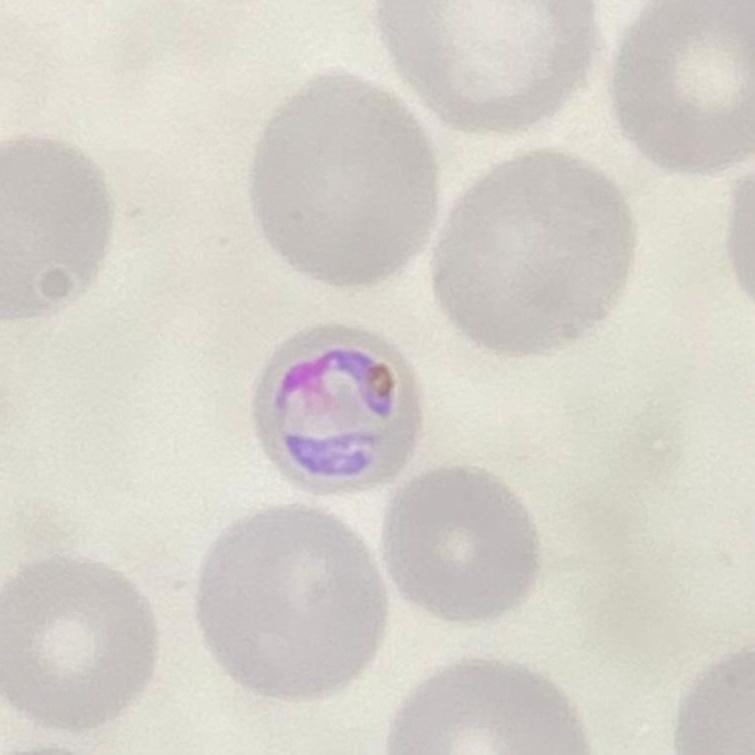Infected: (257, 323, 422, 496)
Uninfected: (444, 150, 637, 357), (251, 71, 434, 287), (204, 502, 381, 695), (380, 0, 595, 131), (0, 557, 163, 727), (381, 465, 540, 629), (610, 0, 755, 170), (0, 139, 116, 322), (397, 653, 592, 755)
